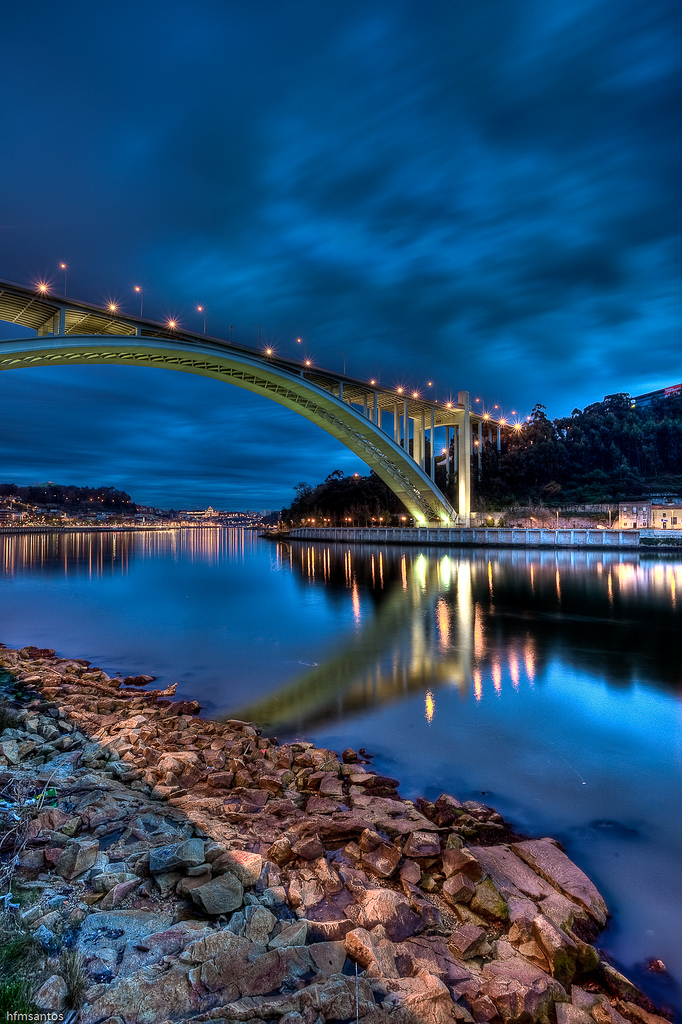arrabida: (0, 279, 522, 528)
